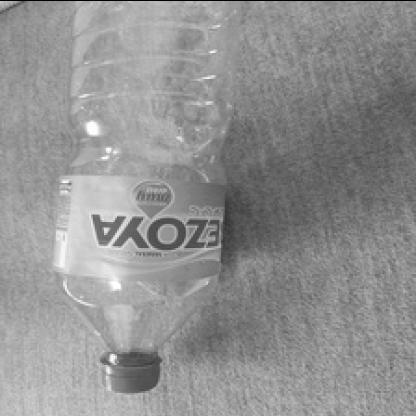plastic_bottles: (48, 1, 249, 405)
